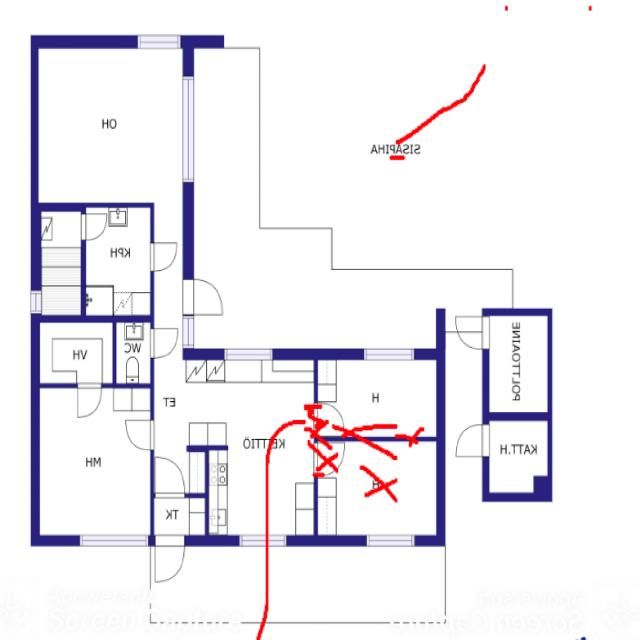door: (155, 535, 184, 581), (183, 280, 222, 314), (155, 457, 185, 497), (456, 425, 490, 457), (456, 317, 490, 349), (77, 383, 102, 418), (126, 420, 154, 450), (150, 328, 178, 358), (150, 243, 177, 271), (80, 213, 107, 240)
